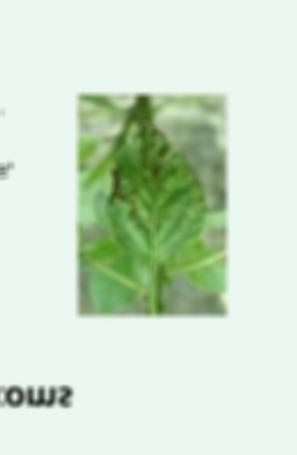Tomato leaf bacterial spot: (105, 111, 205, 268)
